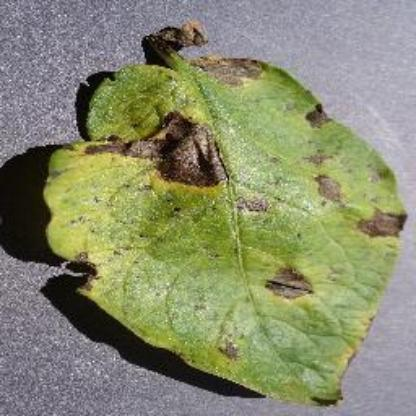Early-Blight: (40, 16, 408, 404)
